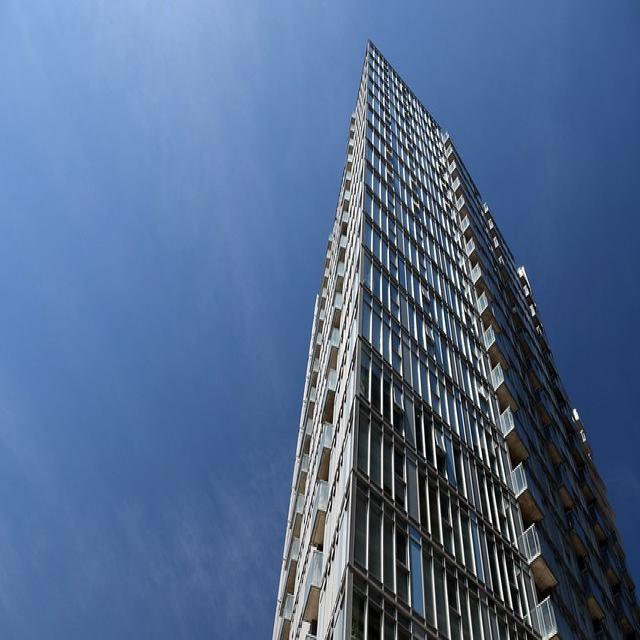building: (269, 37, 640, 640)
